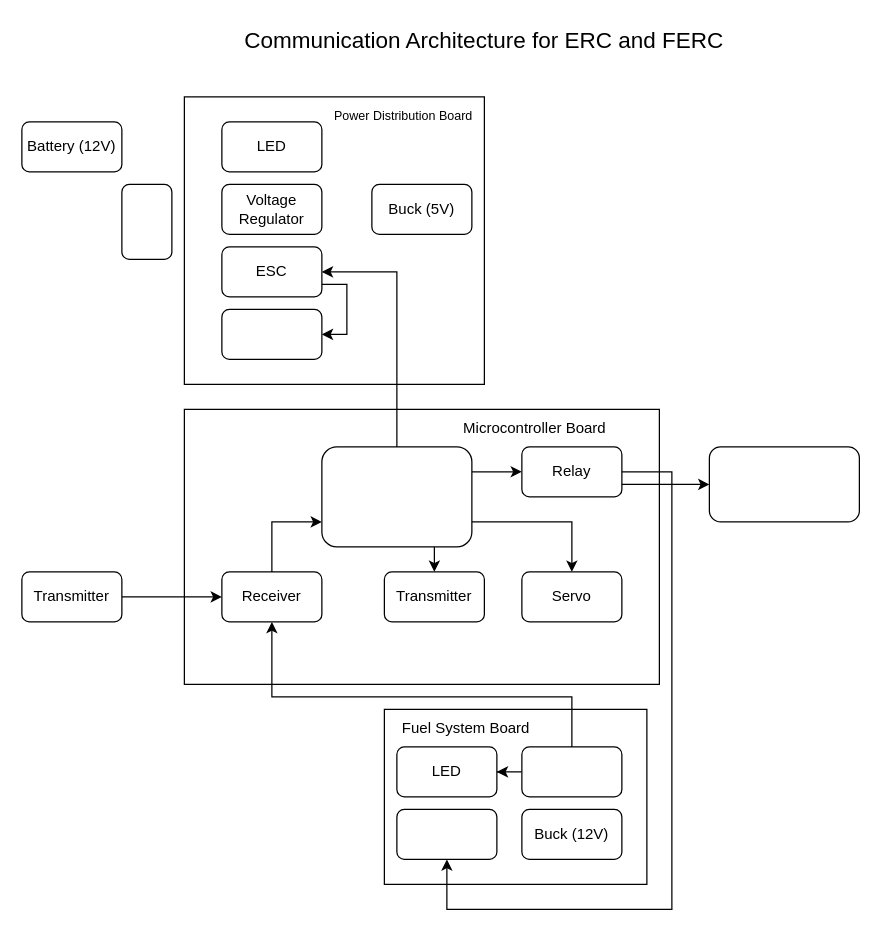
Image size: 881x941. Some labels were removed from this diagram. The centre of each missing label's shape, as x and y in pixels:
Cooling System: [783,484]
Fuel Level Sensor: [571,771]
Fuel Pump: [446,833]
Fuse: [146,221]
Motor: [271,333]
STM32H7: [396,496]
